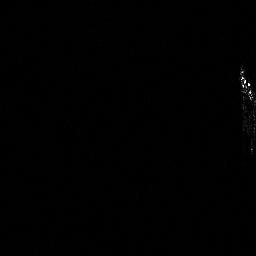ship: (237, 62, 256, 114)
